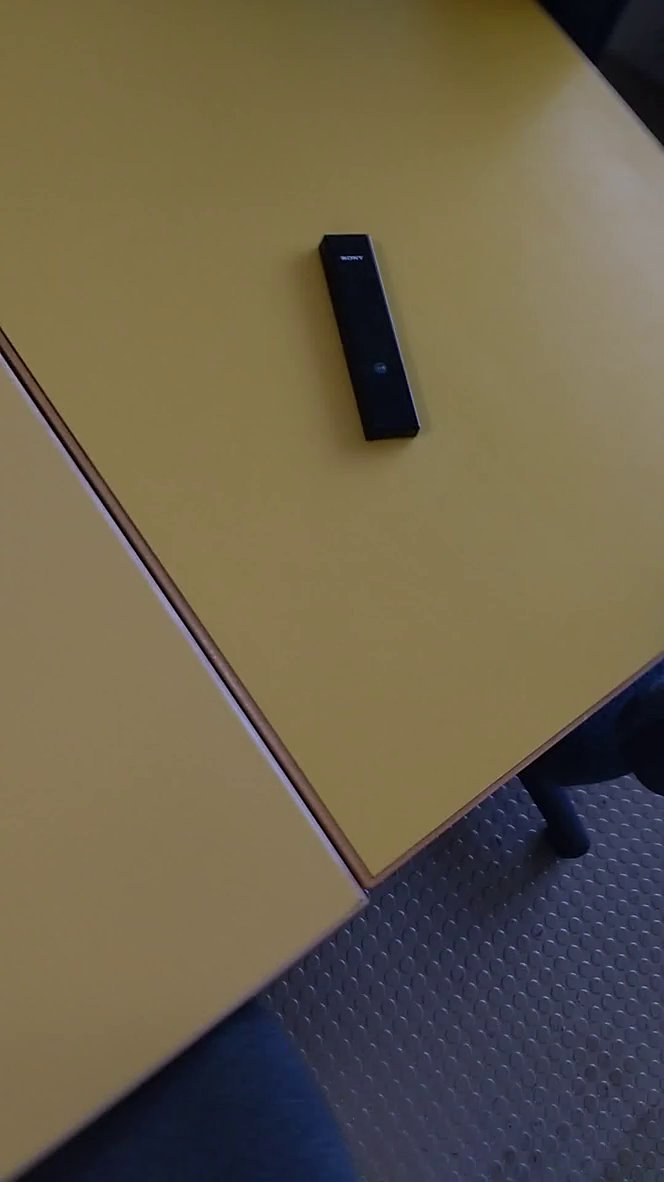remote: (313, 223, 430, 450)
